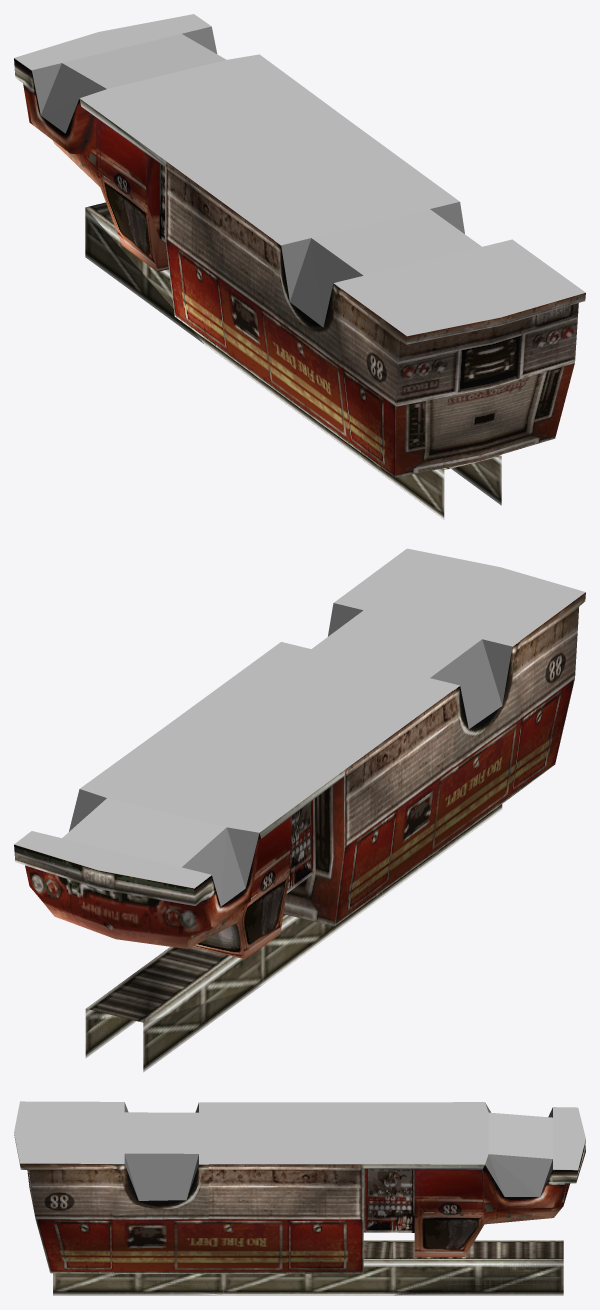
File: RIO_model10_clean.obj
The picture shows the model from 3 angles, top to bottom: view 1: azimuth 30°, elevation 25°; view 2: azimuth 150°, elevation 25°; view 3: azimuth 270°, elevation 25°; orthographic projection. The views are drawn at different scales.
Visible parts, largest first — view 1: RIO_model10_clean; view 2: RIO_model10_clean; view 3: RIO_model10_clean.
Part boxes in pixels (bbox=[...]): RIO_model10_clean: bbox=[14, 14, 585, 519]; RIO_model10_clean: bbox=[14, 548, 585, 1072]; RIO_model10_clean: bbox=[14, 1101, 585, 1295].
Bounding box in the file's own units: 322 × 368 × 1246.
